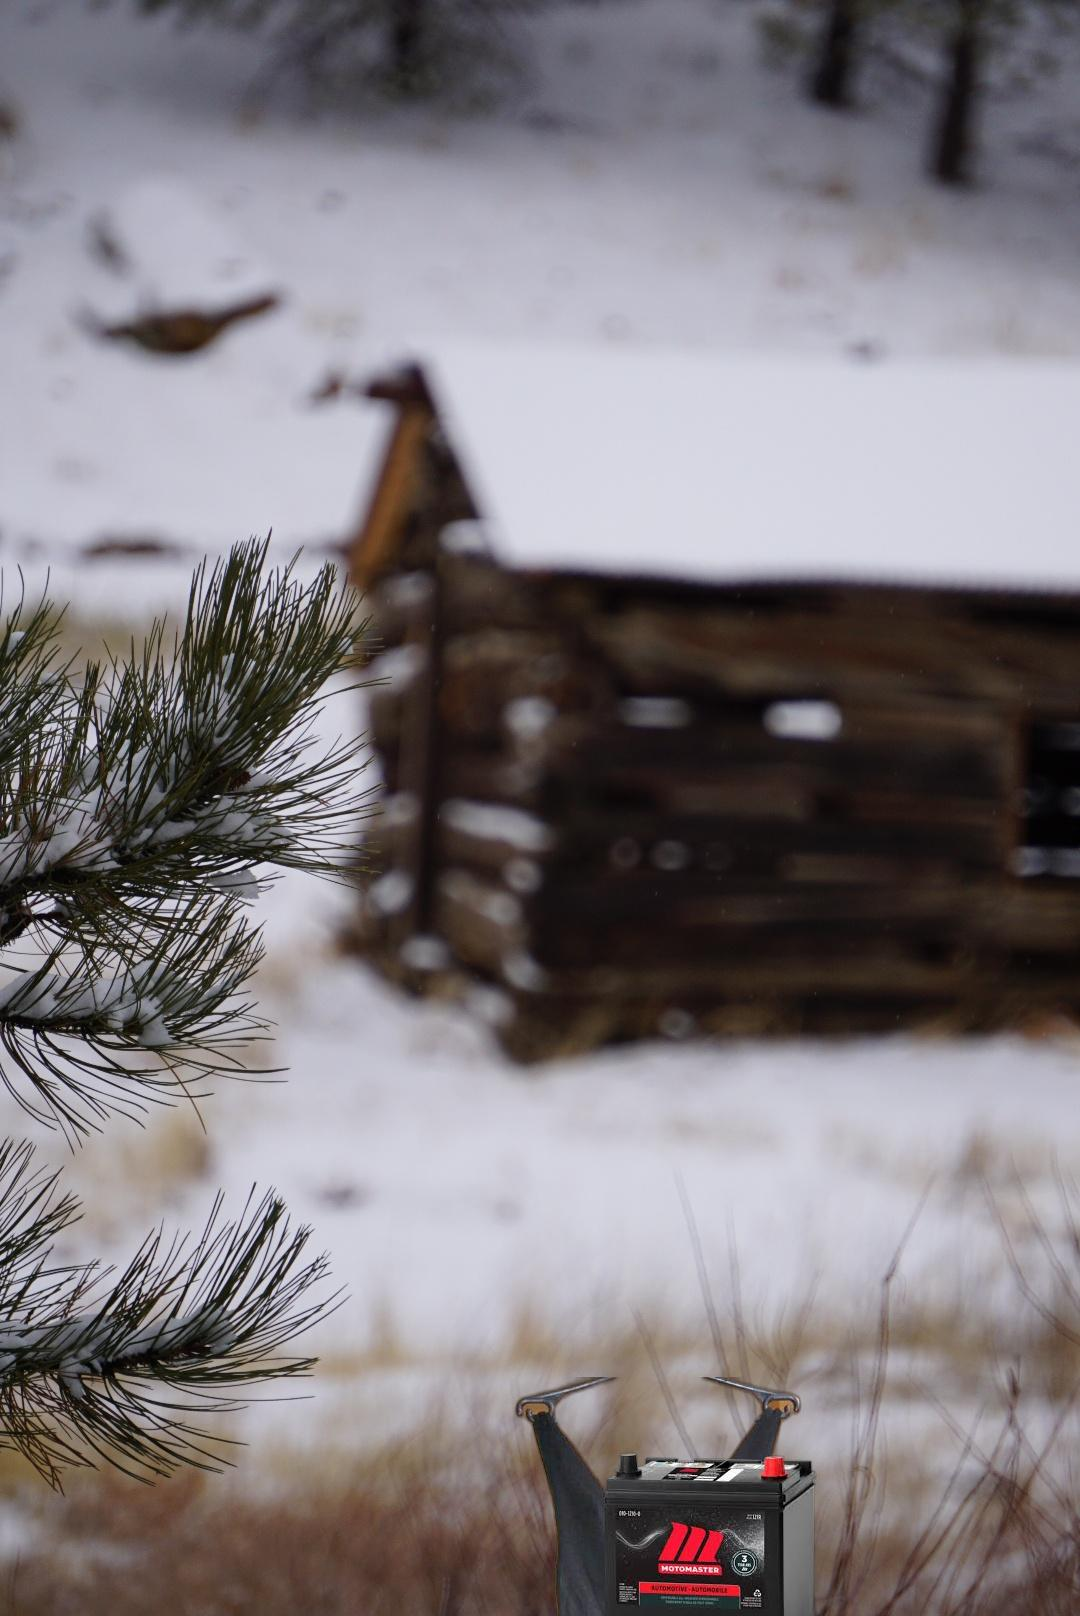battery: (599, 1450, 818, 1616)
clothes: (512, 1377, 824, 1616)
